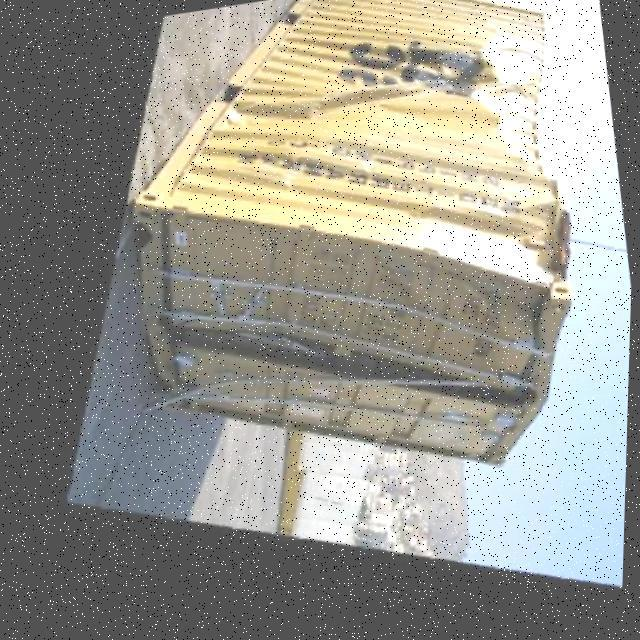dent: (204, 306, 566, 496), (453, 4, 570, 234)
